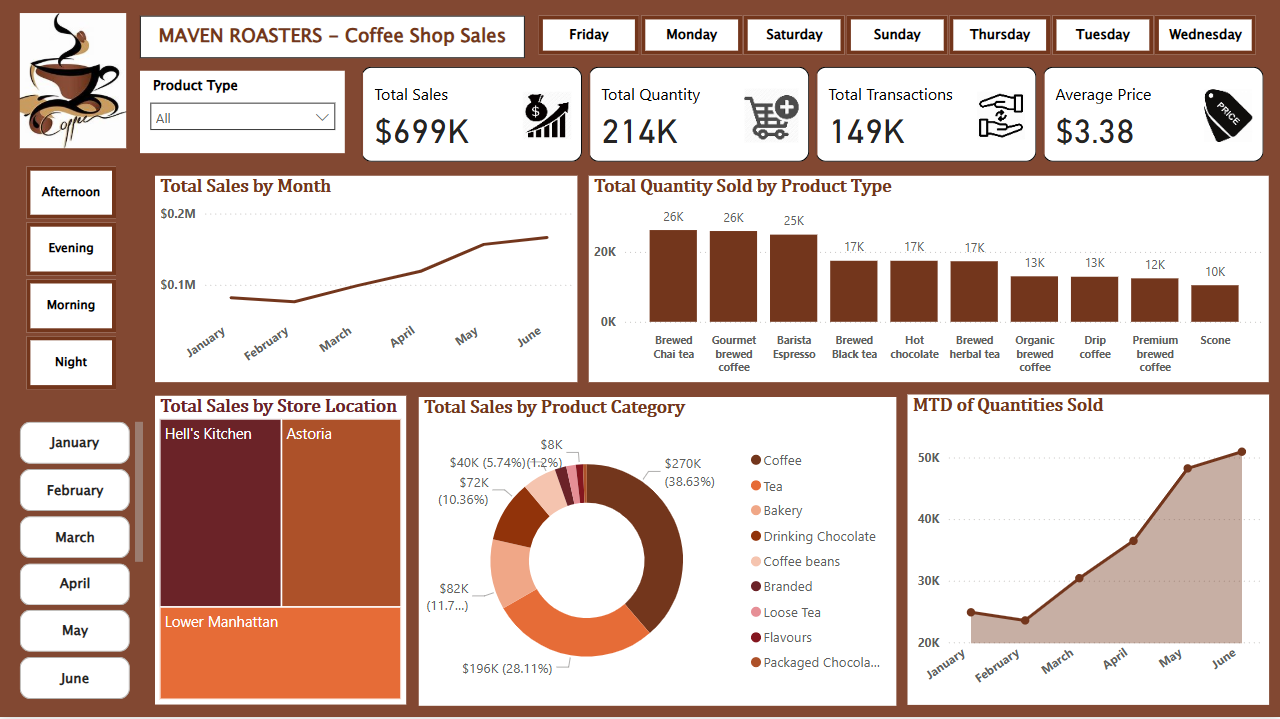

Layout of this report page (visuals, bound fields, positions):
{"tool":"powerbi","page":{"name":"Coffee Sales Dashboard","canvas":[1280,720],"ordinal":0},"visuals":[{"type":"cardVisual","fields":{"Data":["sales-revenue.Total Sales","sales-revenue.Total Quantity","sales-revenue.Total Transactions","sales-revenue.Average Price"]},"box":[356.2,65,912.5,105],"z":0},{"type":"image","box":[15,11.2,116.2,145],"z":1000},{"type":"slicer","fields":{"Values":["sales-revenue.order_time"]},"box":[0,162.5,140,236.2],"z":2000},{"type":"slicer","fields":{"Values":["calendar.Day Name"]},"box":[512.5,11.2,767.5,53.8],"z":3000},{"type":"treemap","title":"Total Sales by Store Location","fields":{"Group":["sales-revenue.store_location"],"Values":["sales-revenue.Total Sales"]},"box":[155,398.8,251.2,308.8],"z":4000},{"type":"donutChart","title":"Total Sales by Product Category","fields":{"Y":["sales-revenue.Total Sales"],"Category":["sales-revenue.product_category"]},"box":[418.8,400,477.5,308.8],"z":5000},{"type":"lineChart","fields":{"Category":["calendar.Date.Variation.Date Hierarchy.Month"],"Y":["sales-revenue.Total Sales"]},"box":[155,178.8,422.5,206.2],"z":6000},{"type":"clusteredColumnChart","title":"Total Quantity  Sold by Product Type","fields":{"Category":["sales-revenue.product_type"],"Y":["sales-revenue.Total Quantity"]},"box":[588.8,178.8,680,206.2],"z":7000},{"type":"advancedSlicerVisual","fields":{"Values":["calendar.Date.Variation.Date Hierarchy.Month"]},"box":[15,420,133.8,287.5],"z":8000},{"type":"areaChart","title":"MTD of Quantities Sold","fields":{"Category":["calendar.Date.Variation.Date Hierarchy.Month"],"Y":["sales-revenue.MTD"]},"box":[907.5,397.5,361.2,310],"z":9000},{"type":"slicer","fields":{"Values":["sales-revenue.product_type"]},"box":[140,73.8,205,82.5],"z":10000},{"type":"textbox","box":[140,18.8,385,42.5],"z":11000}]}

Visuals, with their boxes in screenshot pixels (x1, y1, x2, y2), scaled from the page's 1280x720 canvas onto the 1280x719 screenshot:
cardVisual - sales-revenue.Total Sales x sales-revenue.Total Quantity: x1=356, y1=65, x2=1269, y2=170
image: x1=15, y1=11, x2=131, y2=156
slicer - sales-revenue.order_time: x1=0, y1=162, x2=140, y2=398
slicer - calendar.Day Name: x1=512, y1=11, x2=1279, y2=65
"Total Sales by Store Location" treemap: x1=155, y1=398, x2=406, y2=707
"Total Sales by Product Category" donutChart: x1=419, y1=399, x2=896, y2=708
lineChart - calendar.Date.Variation.Date Hierarchy.Month x sales-revenue.Total Sales: x1=155, y1=179, x2=578, y2=384
"Total Quantity  Sold by Product Type" clusteredColumnChart: x1=589, y1=179, x2=1269, y2=384
advancedSlicerVisual - calendar.Date.Variation.Date Hierarchy.Month: x1=15, y1=419, x2=149, y2=707
"MTD of Quantities Sold" areaChart: x1=908, y1=397, x2=1269, y2=707
slicer - sales-revenue.product_type: x1=140, y1=74, x2=345, y2=156
textbox: x1=140, y1=19, x2=525, y2=61
